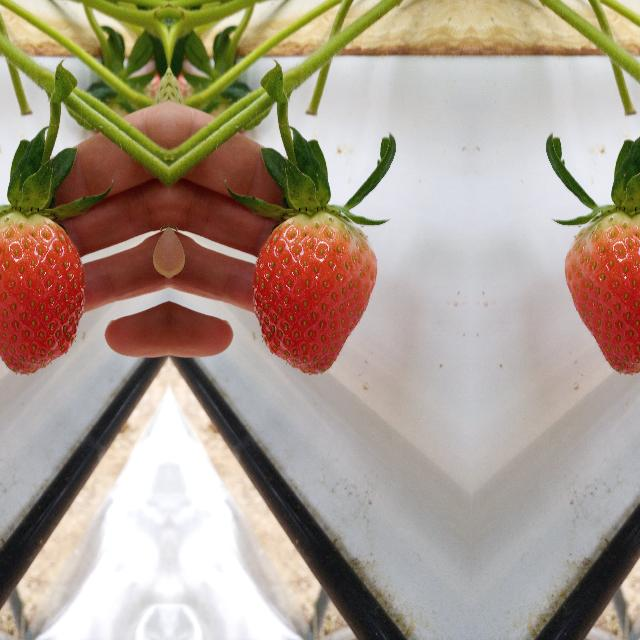Health_100: (251, 210, 377, 376), (0, 210, 85, 375), (564, 210, 640, 375)
